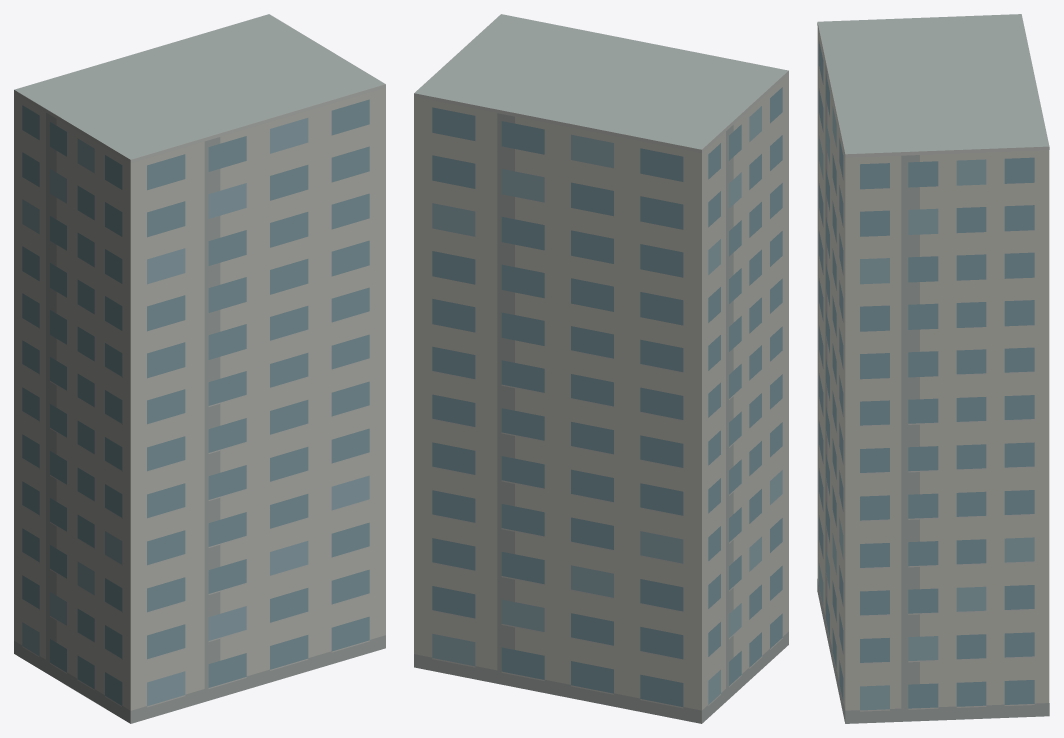
The model's file is residential-503e678e-7b72-4458-a707-b10c86eb751a.glb.
The picture shows the model from 3 angles, left to right: view 1: azimuth 30°, elevation 25°; view 2: azimuth 150°, elevation 25°; view 3: azimuth 270°, elevation 25°; orthographic projection.
Visible parts, largest first — view 1: residential-503e678e-7b72-4458-a707-b10c86eb751a.tmp; view 2: residential-503e678e-7b72-4458-a707-b10c86eb751a.tmp; view 3: residential-503e678e-7b72-4458-a707-b10c86eb751a.tmp.
Boxes of the visible parts, x1,y1,x2,y2 form: residential-503e678e-7b72-4458-a707-b10c86eb751a.tmp: [14, 14, 385, 723]; residential-503e678e-7b72-4458-a707-b10c86eb751a.tmp: [414, 14, 788, 723]; residential-503e678e-7b72-4458-a707-b10c86eb751a.tmp: [817, 14, 1049, 723].
Size of the model in its own units: 20.6 by 39 by 14.41.
